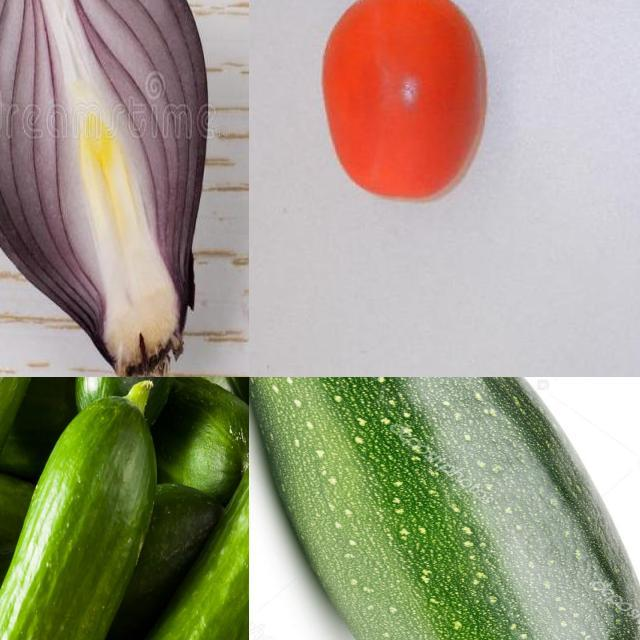cucumber: (1, 387, 159, 640), (101, 378, 250, 640), (1, 378, 98, 640)
onion: (1, 1, 211, 378)
tomato: (302, 1, 502, 220)
zucchini: (250, 378, 640, 640)
